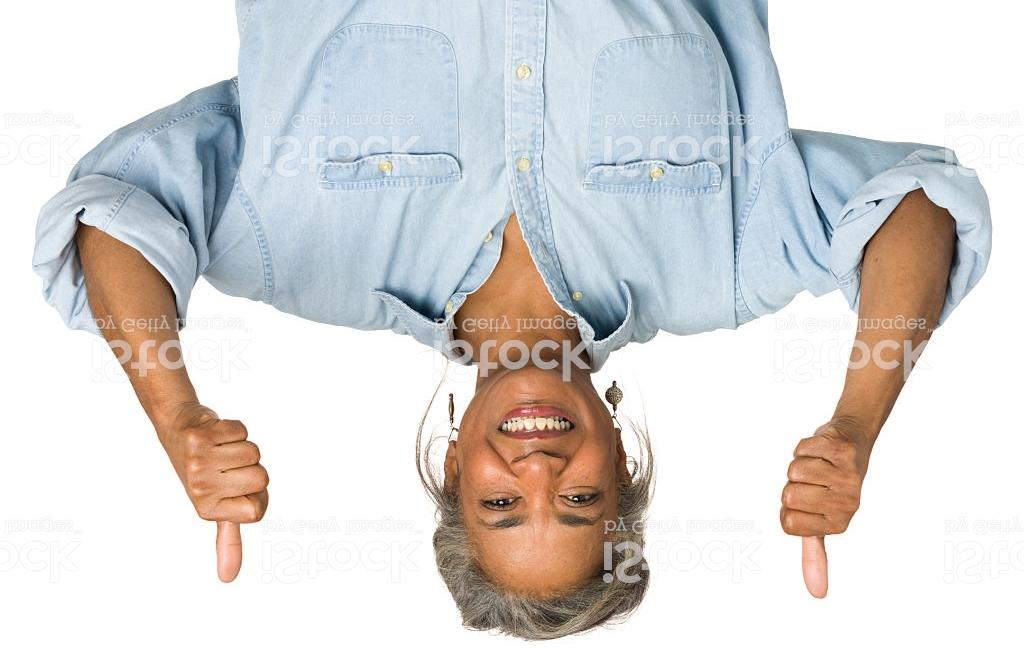thumbsdown: (780, 431, 865, 601), (183, 419, 269, 584)
